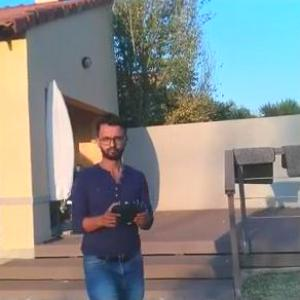follow: (68, 109, 159, 299)
